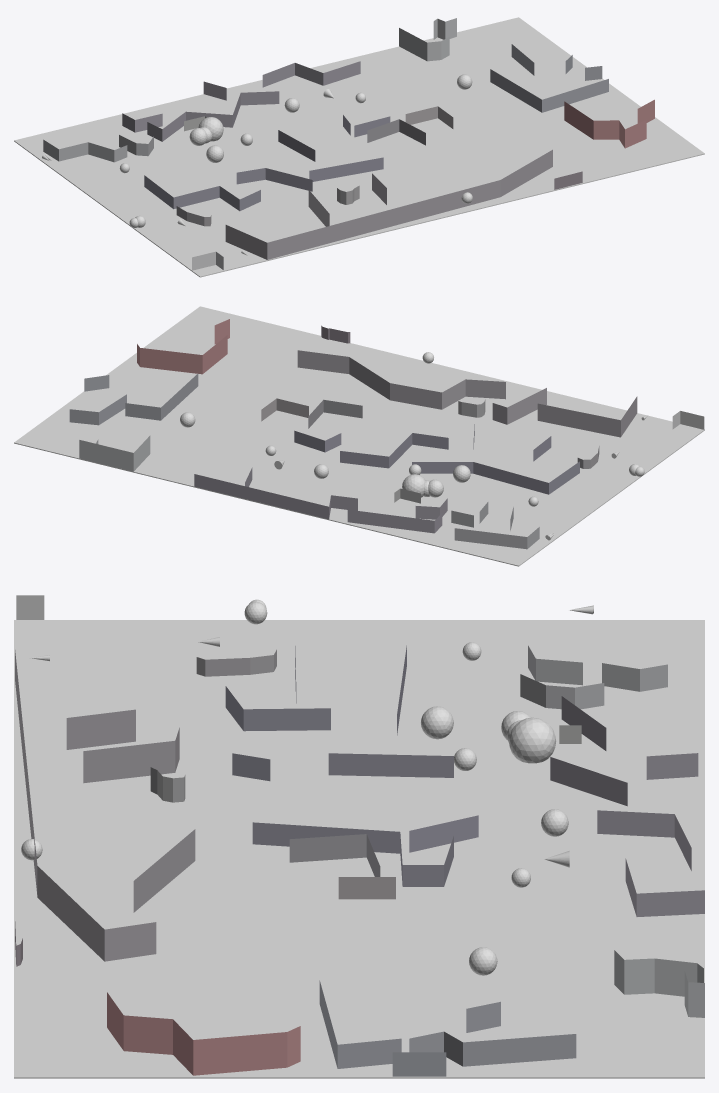
3 renders of one model, top to bottom at view 1: azimuth 30°, elevation 25°; view 2: azimuth 150°, elevation 25°; view 3: azimuth 270°, elevation 25°, orthographic. The views are drawn at different scales.
Parts seen in each view (by area): view 1: Ground_Base, BLD-004, BLD-009, BLD-014, BLD-010, BLD-006, BLD-012, BLD-013, BLD-007, BLD-008, BLD-002; view 2: Ground_Base, BLD-004, BLD-009, BLD-014, BLD-010, BLD-006, BLD-012, BLD-013, BLD-007, BLD-008, BLD-002; view 3: Ground_Base, BLD-004, BLD-009, BLD-014, BLD-010, BLD-006, BLD-012, BLD-013, BLD-007, TREE-001, BLD-005, BLD-008 (+2 smaller).
Boxes of the visible parts, left/top/right/bottom form: Ground_Base: left=14, top=17, right=704, bottom=277; BLD-004: left=225, top=149, right=552, bottom=259; BLD-009: left=144, top=115, right=390, bottom=211; BLD-014: left=122, top=61, right=360, bottom=141; BLD-010: left=490, top=44, right=608, bottom=112; BLD-006: left=564, top=99, right=654, bottom=148; BLD-012: left=43, top=135, right=153, bottom=162; BLD-013: left=399, top=18, right=456, bottom=61; BLD-007: left=367, top=119, right=425, bottom=145; BLD-008: left=405, top=106, right=453, bottom=128; BLD-002: left=192, top=251, right=223, bottom=270; Ground_Base: left=14, top=306, right=704, bottom=566; BLD-004: left=297, top=350, right=637, bottom=437; BLD-009: left=294, top=424, right=579, bottom=494; BLD-014: left=194, top=467, right=447, bottom=533; BLD-010: left=69, top=373, right=198, bottom=425; BLD-006: left=137, top=319, right=229, bottom=374; BLD-012: left=451, top=502, right=539, bottom=549; BLD-013: left=79, top=435, right=150, bottom=471; BLD-007: left=308, top=399, right=362, bottom=428; BLD-008: left=261, top=398, right=308, bottom=421; BLD-002: left=672, top=411, right=704, bottom=429; Ground_Base: left=14, top=620, right=704, bottom=1078; BLD-004: left=15, top=650, right=195, bottom=961; BLD-009: left=225, top=645, right=478, bottom=886; BLD-014: left=550, top=696, right=704, bottom=916; BLD-010: left=319, top=980, right=576, bottom=1076; BLD-006: left=107, top=992, right=300, bottom=1075; BLD-012: left=520, top=645, right=667, bottom=709; BLD-013: left=614, top=950, right=704, bottom=1017; BLD-007: left=289, top=834, right=380, bottom=876; TREE-001: left=508, top=717, right=556, bottom=763; BLD-005: left=196, top=649, right=276, bottom=676; BLD-008: left=338, top=877, right=395, bottom=899.
Bounding box in the file's own units: 244 × 10.6 × 154.
